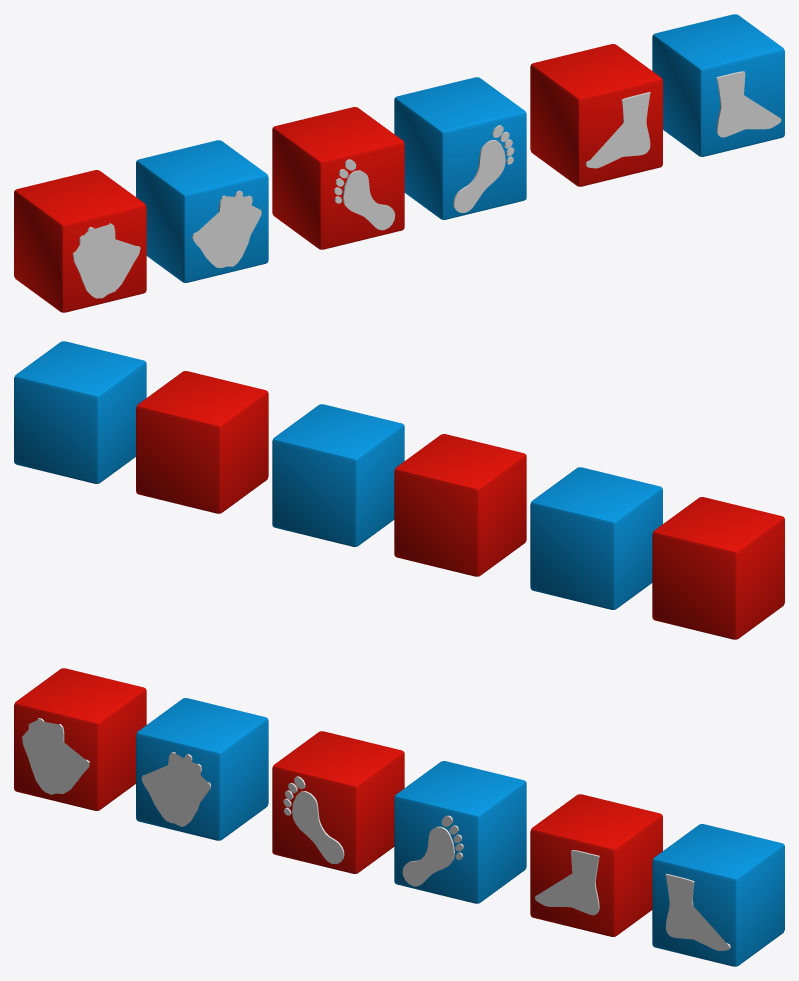
3 renders of one model, top to bottom at view 1: azimuth 30°, elevation 25°; view 2: azimuth 150°, elevation 25°; view 3: azimuth 330°, elevation 25°, orthographic.
Visible parts, largest first — view 1: Cube.003, Cube.005, Cube.002, Cube.004, Cube.001, Cube, GreasePencil.002, GreasePencil.001, GreasePencil.005, GreasePencil.003, GreasePencil.004, GreasePencil; view 2: Cube.001, Cube.005, Cube.003, Cube, Cube.002, Cube.004; view 3: Cube.002, Cube.004, Cube.003, Cube.005, Cube, Cube.001, GreasePencil.002, GreasePencil.001, GreasePencil.005, GreasePencil.003, GreasePencil, GreasePencil.004.
Boxes of the visible parts, bbox=[...] form: Cube.003: bbox=[272, 107, 404, 249]; Cube.005: bbox=[530, 44, 662, 186]; Cube.002: bbox=[394, 77, 526, 219]; Cube.004: bbox=[652, 14, 784, 156]; Cube.001: bbox=[14, 170, 146, 312]; Cube: bbox=[136, 140, 268, 282]; GreasePencil.002: bbox=[72, 223, 140, 298]; GreasePencil.001: bbox=[192, 190, 261, 267]; GreasePencil.005: bbox=[716, 71, 781, 137]; GreasePencil.003: bbox=[585, 92, 650, 168]; GreasePencil.004: bbox=[453, 125, 514, 212]; GreasePencil: bbox=[334, 159, 395, 230]; Cube.001: bbox=[652, 497, 784, 639]; Cube.005: bbox=[136, 371, 268, 513]; Cube.003: bbox=[394, 434, 526, 576]; Cube: bbox=[530, 467, 662, 609]; Cube.002: bbox=[272, 404, 404, 546]; Cube.004: bbox=[14, 341, 146, 483]; Cube.002: bbox=[394, 761, 526, 903]; Cube.004: bbox=[652, 824, 784, 966]; Cube.003: bbox=[272, 731, 404, 873]; Cube.005: bbox=[530, 794, 662, 936]; Cube: bbox=[136, 698, 268, 840]; Cube.001: bbox=[14, 668, 146, 810]; GreasePencil.002: bbox=[22, 718, 89, 794]; GreasePencil.001: bbox=[141, 752, 210, 826]; GreasePencil.005: bbox=[665, 873, 730, 950]; GreasePencil.003: bbox=[535, 850, 599, 915]; GreasePencil: bbox=[283, 776, 344, 863]; GreasePencil.004: bbox=[402, 815, 463, 886].
Bounding box in the file's own units: 1683 × 200 × 204.
